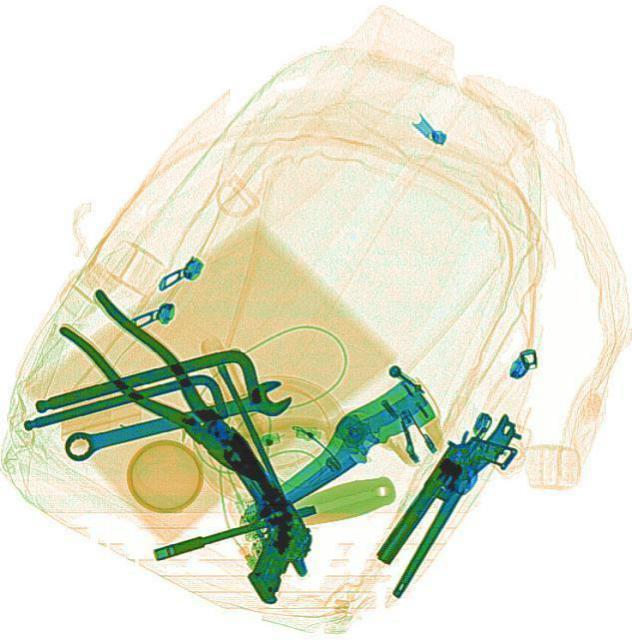Gun: (157, 426, 342, 604), (368, 418, 515, 584)
Pliers: (54, 285, 281, 503)
Wrench: (58, 375, 293, 463)
